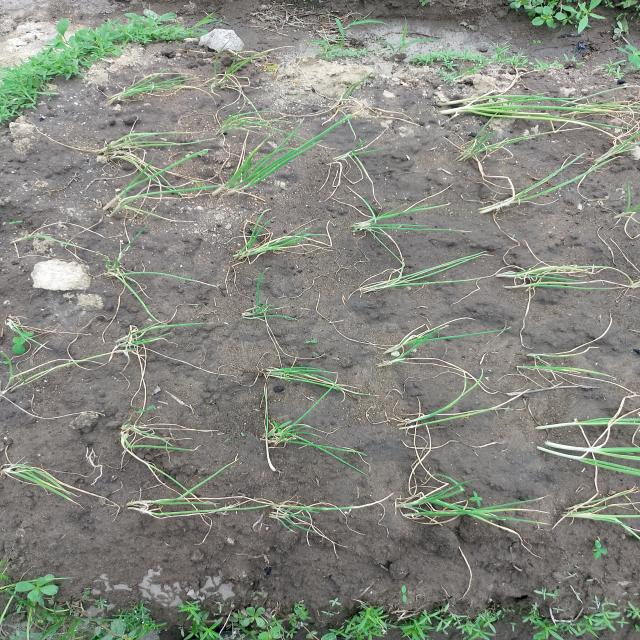Spring Onion: (448, 497, 536, 551), (524, 402, 588, 464), (254, 411, 328, 460), (394, 482, 461, 534), (91, 250, 155, 304), (379, 400, 472, 437), (376, 338, 444, 388), (552, 488, 628, 532), (161, 484, 232, 528), (224, 224, 285, 275), (314, 87, 380, 134), (110, 318, 175, 365), (492, 260, 564, 301), (106, 74, 177, 115), (447, 130, 510, 174), (0, 456, 63, 498), (8, 573, 64, 620), (394, 438, 455, 480), (240, 491, 305, 530), (325, 136, 385, 176), (346, 206, 402, 248), (228, 296, 291, 333), (98, 183, 152, 225), (591, 132, 640, 174), (298, 368, 362, 400), (434, 92, 490, 126), (216, 104, 266, 140), (123, 490, 171, 527), (579, 407, 640, 436), (172, 592, 216, 628), (476, 192, 526, 222), (356, 272, 394, 305)
